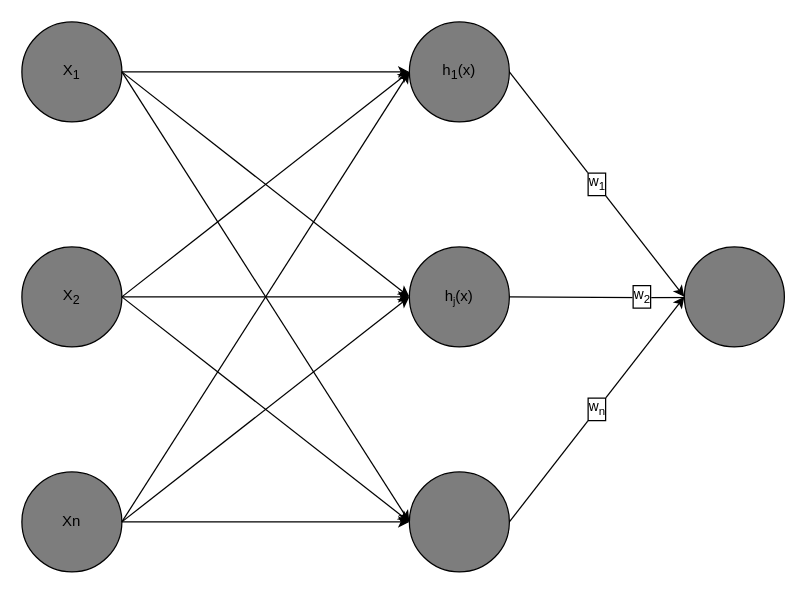
This 811x594 diagram has some shape labels left out. Here are the shapes that lost their labels. From the top down, the box of each, then its label:
(683, 246, 784, 347): y k (X)
(408, 471, 509, 572): h nh (x)
